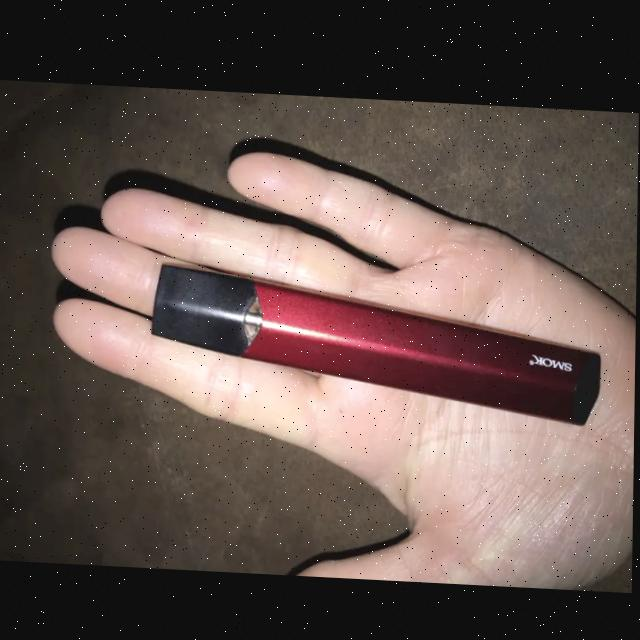vape: (150, 263, 605, 418)
